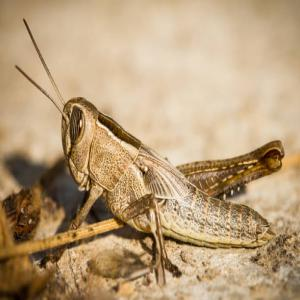locust: (30, 27, 279, 250)
